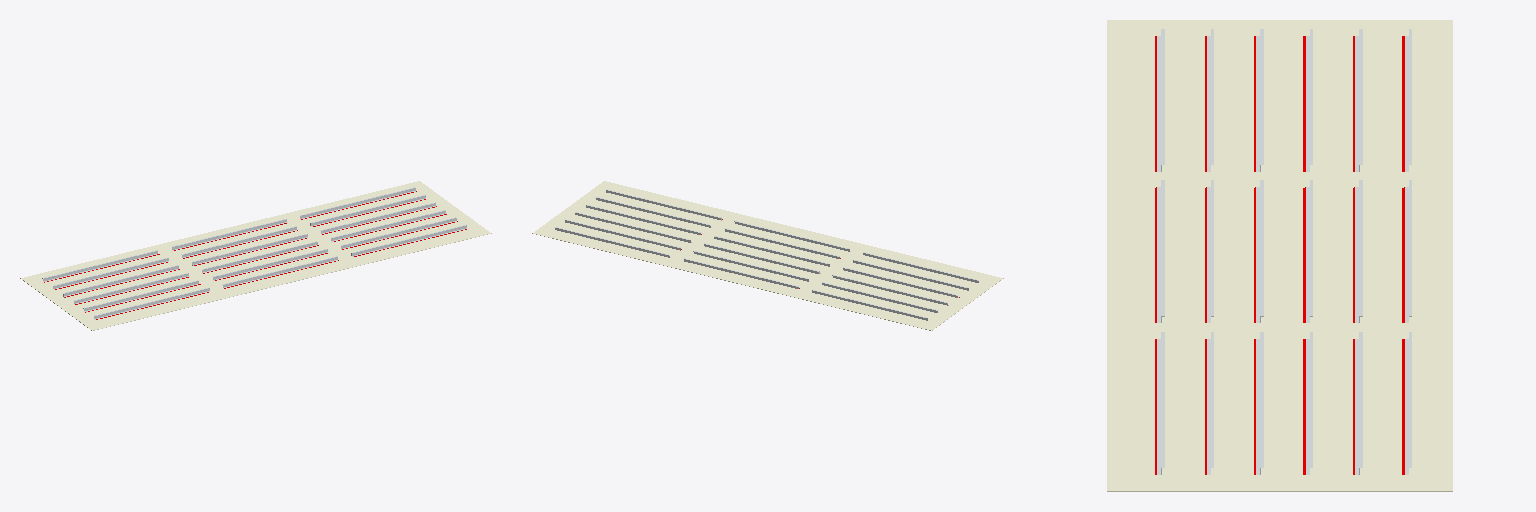
robot.urdf — label_urdf:
<?xml version="1.0" encoding="utf-8"?>
<!-- This URDF was automatically created by SolidWorks to URDF Exporter! Originally created by [author] ([email redacted]) 
     Commit Version: 1.6.0-4-g7f85cfe  Build Version: 1.6.7995.38578
     For more information, please see http://wiki.ros.org/sw_urdf_exporter -->
<robot
  name="label_urdf">
  <link
    name="base_link">
    <inertial>
      <origin
        xyz="-2.25 -0.7 -0.002"
        rpy="0 0 0" />
      <mass
        value="214.2" />
      <inertia
        ixx="34.986"
        ixy="1.6384E-15"
        ixz="-7.4377E-15"
        iyy="361.46"
        iyz="4.3003E-15"
        izz="396.45" />
    </inertial>
    <visual>
      <origin
        xyz="0 0 0"
        rpy="0 0 0" />
      <geometry>
        <mesh
          filename="package://label_urdf/meshes/base_link.STL" />
      </geometry>
      <material
        name="1">
        <color
          rgba="1 1 0.9 1" />
      </material>
    </visual>
    <collision>
      <origin
        xyz="0 0 0"
        rpy="0 0 0" />
      <geometry>
        <mesh
          filename="package://label_urdf/meshes/base_link.STL" />
      </geometry>
    </collision>
  </link>
  <link
    name="line_Link">
    <inertial>
      <origin
        xyz="-2.25 -0.68088 0.014385"
        rpy="0 0 0" />
      <mass
        value="8.2134" />
      <inertia
        ixx="0.95997"
        ixy="-4.4409E-16"
        ixz="-2.909E-16"
        iyy="12.67"
        iyz="-0.00057678"
        izz="13.628" />
    </inertial>
    <visual>
      <origin
        xyz="0 0 0"
        rpy="0 0 0" />
      <geometry>
        <mesh
          filename="package://label_urdf/meshes/line_Link.STL" />
      </geometry>
      <material
        name="2">
        <color
          rgba="0.89804 0.91765 0.92941 1" />
      </material>
    </visual>
    <collision>
      <origin
        xyz="0 0 0"
        rpy="0 0 0" />
      <geometry>
        <mesh
          filename="package://label_urdf/meshes/line_Link.STL" />
      </geometry>
    </collision>
  </link>
  <joint
    name="line_joint"
    type="fixed">
    <origin
      xyz="0 0 0"
      rpy="0 0 0" />
    <parent
      link="base_link" />
    <child
      link="line_Link" />
    <axis
      xyz="0 0 0" />
  </joint>
  <link
    name="label_link">
    <inertial>
      <origin
        xyz="-2.25 -0.70041 0.000915"
        rpy="0 0 0" />
      <mass
        value="0.002574" />
      <inertia
        ixx="0.00030032"
        ixy="-2.331E-18"
        ixz="-8.7474E-20"
        iyy="0.0039704"
        iyz="-4.702E-09"
        izz="0.0042707" />
    </inertial>
    <visual>
      <origin
        xyz="0 0 0"
        rpy="0 0 0" />
      <geometry>
        <mesh
          filename="package://label_urdf/meshes/label_link.STL" />
      </geometry>
      <material
        name="">
        <color
          rgba="1 0 0 1" />
      </material>
    </visual>
    <collision>
      <origin
        xyz="0 0 0"
        rpy="0 0 0" />
      <geometry>
        <mesh
          filename="package://label_urdf/meshes/label_link.STL" />
      </geometry>
    </collision>
  </link>
  <joint
    name="label_joint"
    type="fixed">
    <origin
      xyz="0 0 0"
      rpy="0 0 0" />
    <parent
      link="line_Link" />
    <child
      link="label_link" />
    <axis
      xyz="0 0 0" />
  </joint>
</robot>

--- Render facts (derived) ---
Views: 3 orthographic renders of the robot side by side, from view 1: azimuth 30°, elevation 25°; view 2: azimuth 150°, elevation 25°; view 3: azimuth 270°, elevation 25°.
Model label_urdf with 3 links and 2 joints (2 fixed), rooted at base_link, posed every joint at zero.
Visible links, largest first — view 1: base_link, line_Link, label_link; view 2: base_link, line_Link; view 3: base_link, line_Link, label_link.
Link boxes in pixels (x1=…): base_link: x1=20, y1=181, x2=491, y2=330; line_Link: x1=42, y1=187, x2=466, y2=319; label_link: x1=44, y1=191, x2=466, y2=319; base_link: x1=532, y1=181, x2=1003, y2=330; line_Link: x1=554, y1=189, x2=979, y2=320; base_link: x1=1107, y1=20, x2=1452, y2=491; line_Link: x1=1157, y1=29, x2=1411, y2=474; label_link: x1=1155, y1=36, x2=1404, y2=474.
Bounding box of the posed robot: 4.5 × 1.4 × 0.036 m (x, y, z).
3 mesh visuals loaded from 3 distinct referenced files (3 binary STL).